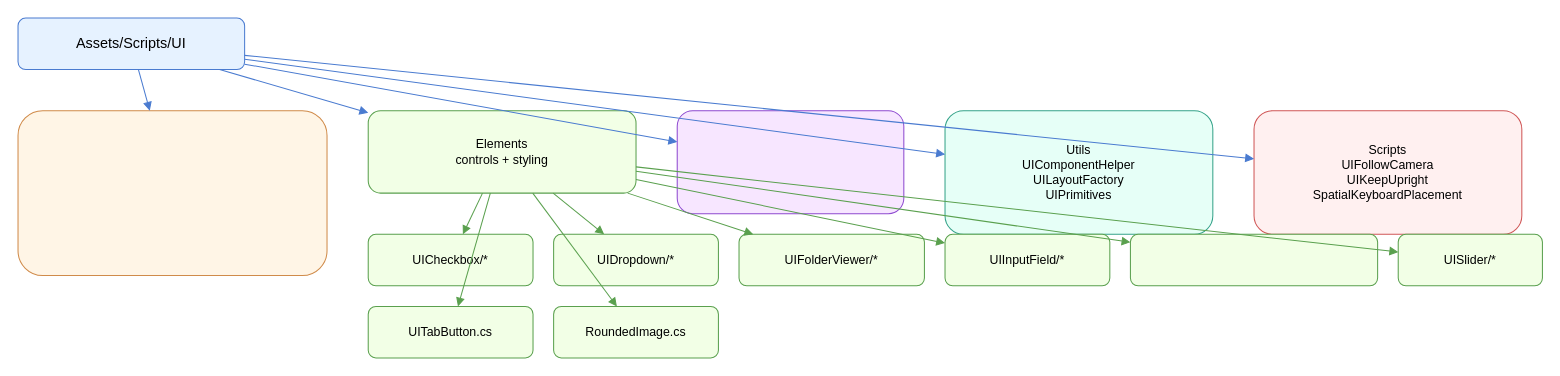
This 1560x376 diagram has some shape labels left out. The shapes that lost their labels are listed below. From the top down, each one's box as (x1, y1, x2, y2) in pixels, then its label:
(676, 110, 904, 214): Tabsystem UITabSystem Tabs/*
(17, 110, 327, 276): Core UIManager UICanvasBuilder UIContentBuilder UITabController UIThemeConfig
(1129, 233, 1378, 286): UIRebindableKeyBinding/*
